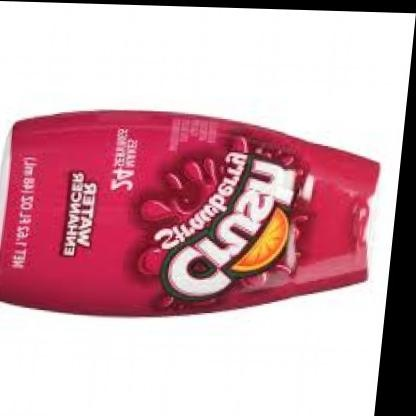trash: (0, 111, 378, 315)
